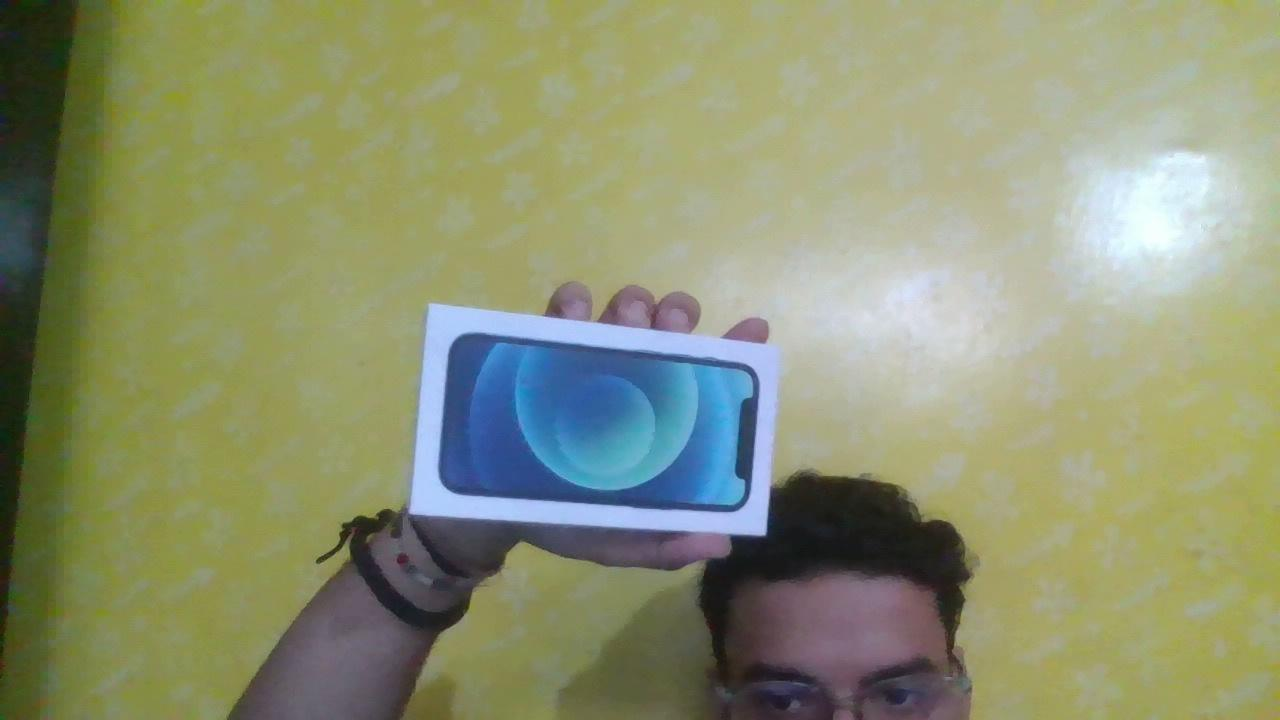Phone: (403, 296, 783, 542)
